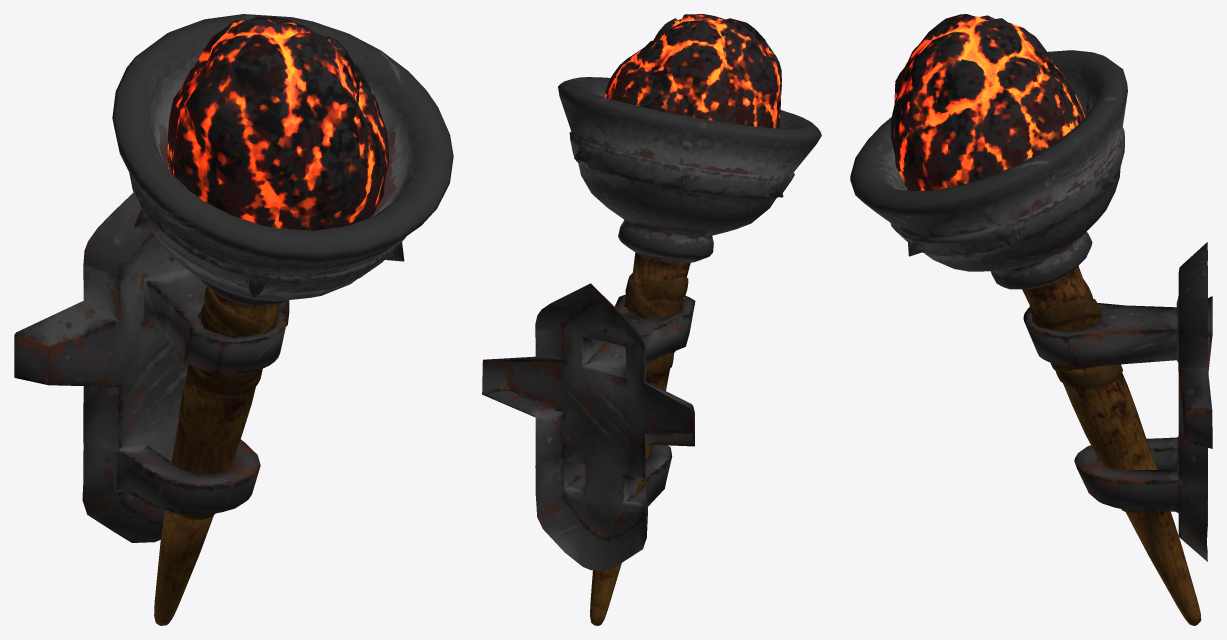
The model's file is dungeon_wall_torch.glb.
3 views of the same model, side by side, from view 1: azimuth 30°, elevation 25°; view 2: azimuth 150°, elevation 25°; view 3: azimuth 270°, elevation 25° (orthographic). The views are drawn at different scales.
Visible parts, largest first — view 1: Object_2; view 2: Object_2; view 3: Object_2.
Part boxes in pixels (box(x1,y1,x2,y2)): Object_2: box(14, 14, 453, 625); Object_2: box(482, 14, 821, 625); Object_2: box(850, 14, 1212, 625).
Bounding box in the file's own units: 0.6502 × 1.44 × 0.796.
Materials: 1 (1 with a texture image).
